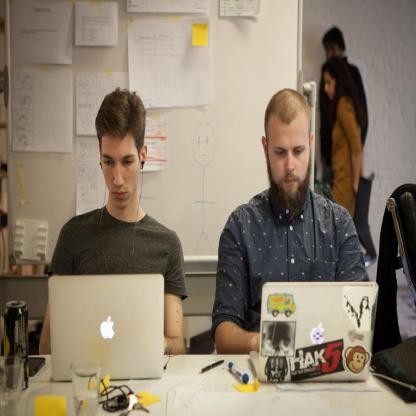board: (248, 280, 380, 384), (48, 275, 169, 383), (3, 301, 30, 391), (0, 354, 26, 416)
